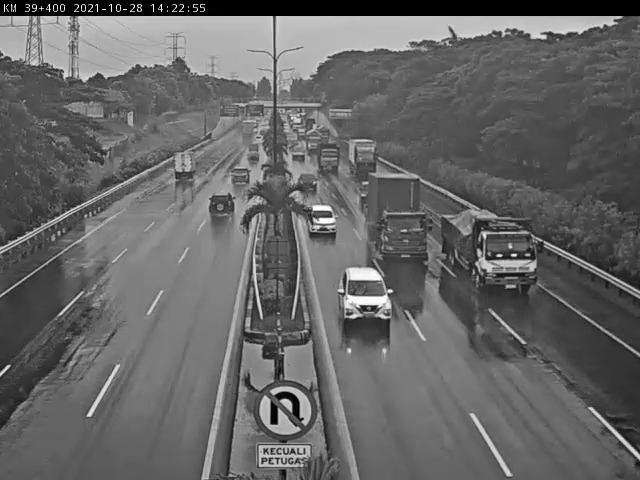big truck: (441, 207, 546, 293), (367, 171, 434, 267), (350, 138, 382, 179), (319, 143, 340, 175)
car: (341, 268, 393, 326), (308, 206, 339, 237), (209, 194, 236, 218), (175, 153, 196, 180), (299, 174, 318, 194), (230, 167, 249, 185), (292, 149, 308, 163)
